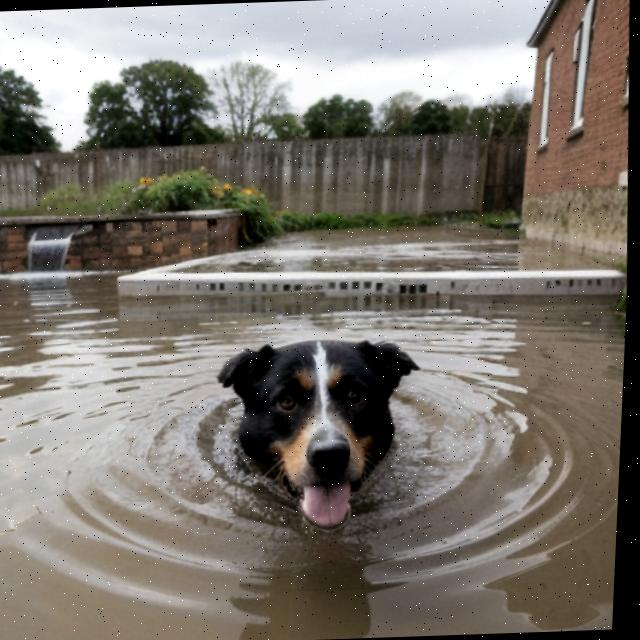dog: (204, 328, 434, 548)
